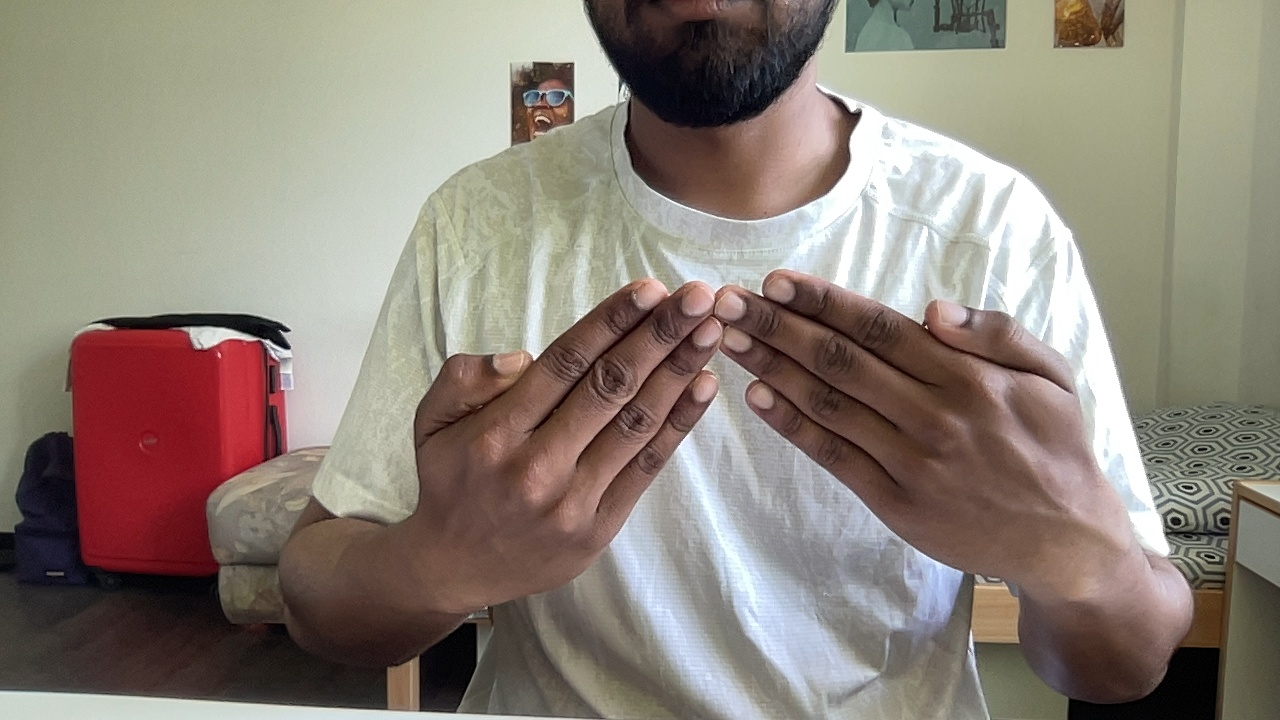ThankYou: (408, 266, 1085, 618)
